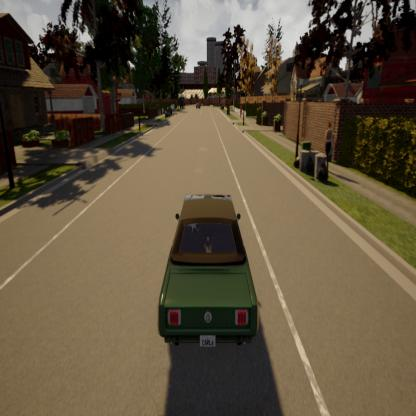Cars: (159, 196, 258, 348)
Pedestrian: (324, 118, 334, 170)
